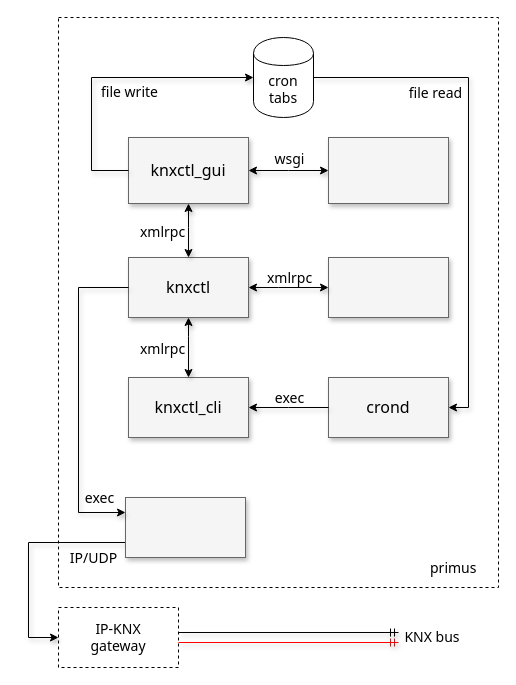
This 516x685 diagram has some shape labels left out. Each missing label, with the centre of its shape:
dash_listener: (389,288)
knxd/knx: (186,528)
nginx: (389,171)
